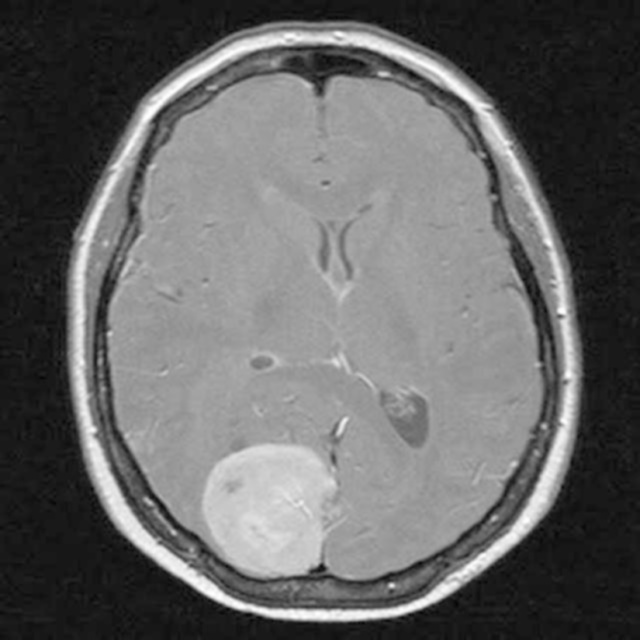meningioma tumor: (173, 420, 359, 590)
